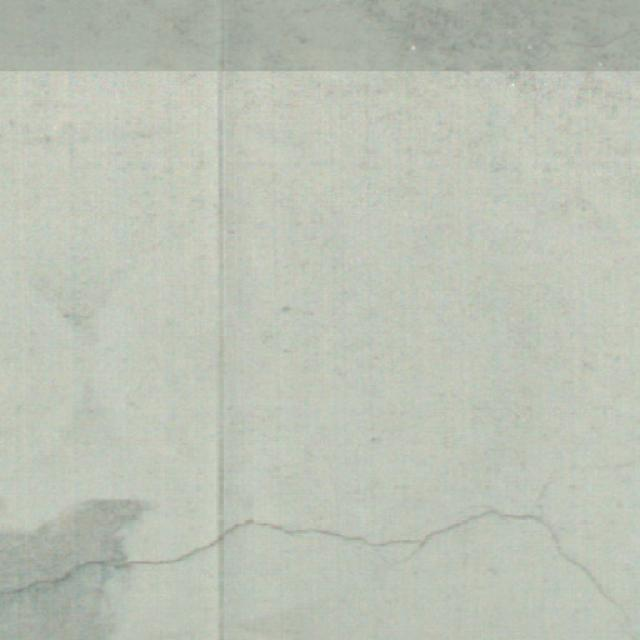Network: (5, 432, 640, 639)
